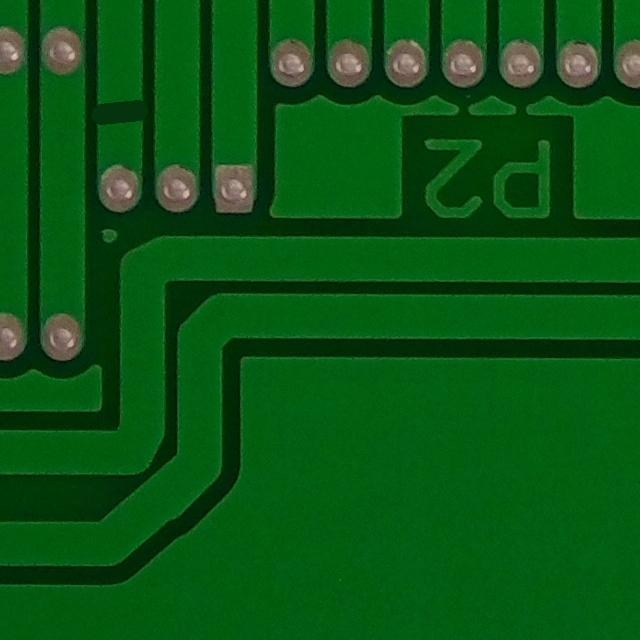open_circuit: (91, 88, 161, 133)
